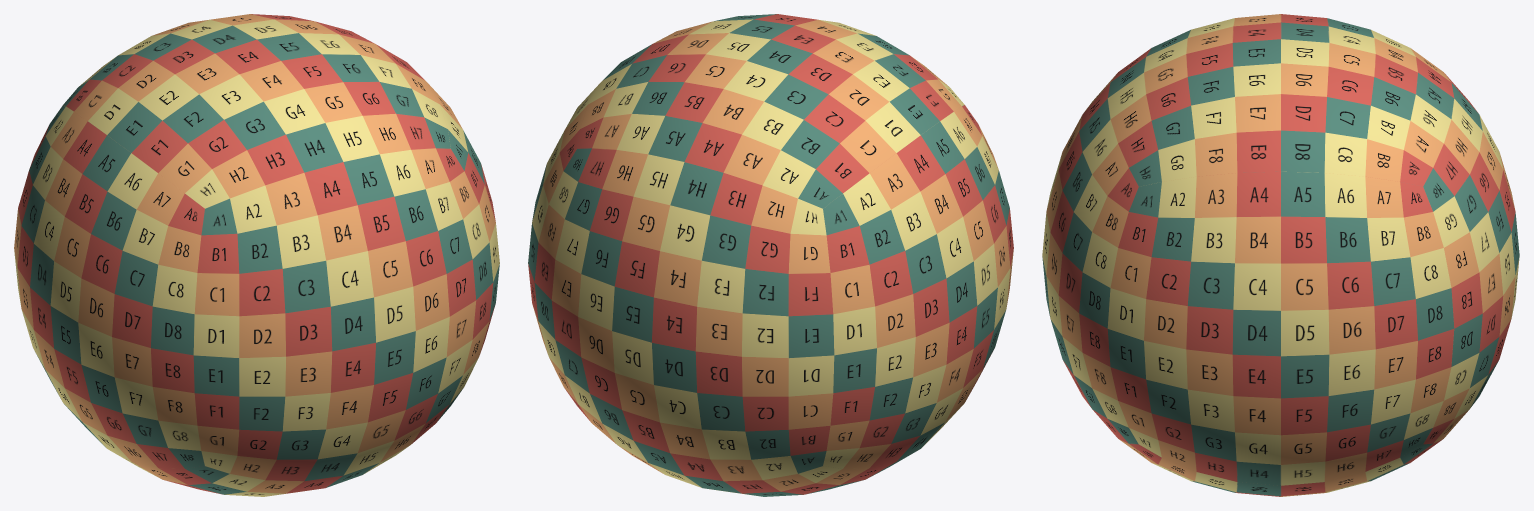
Rendered from morphLibrary1.glb.
3 renders of one model, left to right at view 1: azimuth 30°, elevation 25°; view 2: azimuth 150°, elevation 25°; view 3: azimuth 270°, elevation 25°, orthographic.
Visible parts, largest first — view 1: morphLibrary_sphere_base.004; view 2: morphLibrary_sphere_base.004; view 3: morphLibrary_sphere_base.004.
Boxes of the visible parts, x1,y1,x2,y2 form: morphLibrary_sphere_base.004: [14, 14, 499, 496]; morphLibrary_sphere_base.004: [528, 14, 1013, 496]; morphLibrary_sphere_base.004: [1042, 14, 1519, 496].
Bounding box in the file's own units: 1.68 × 1.68 × 1.68.
Materials: 1 (1 with a texture image).
